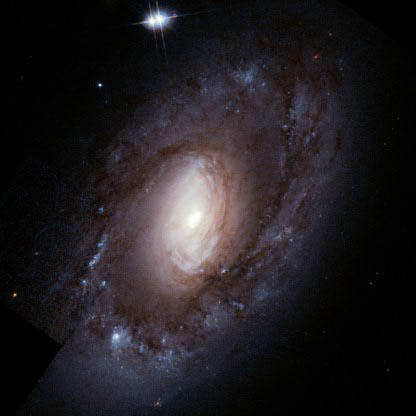NGC 4102: (20, 8, 384, 384)
